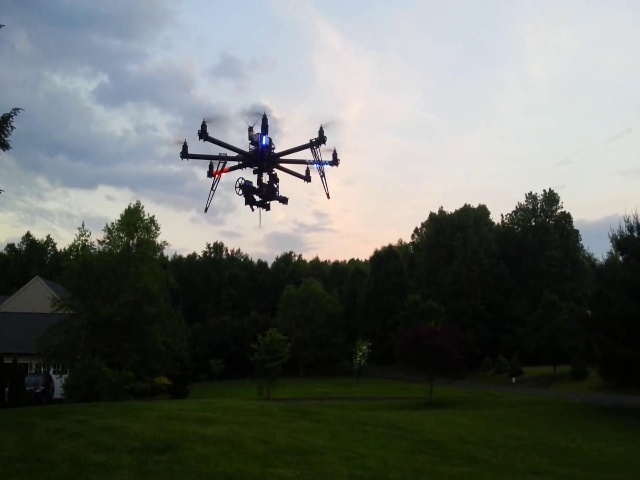drone: (172, 106, 347, 214)
